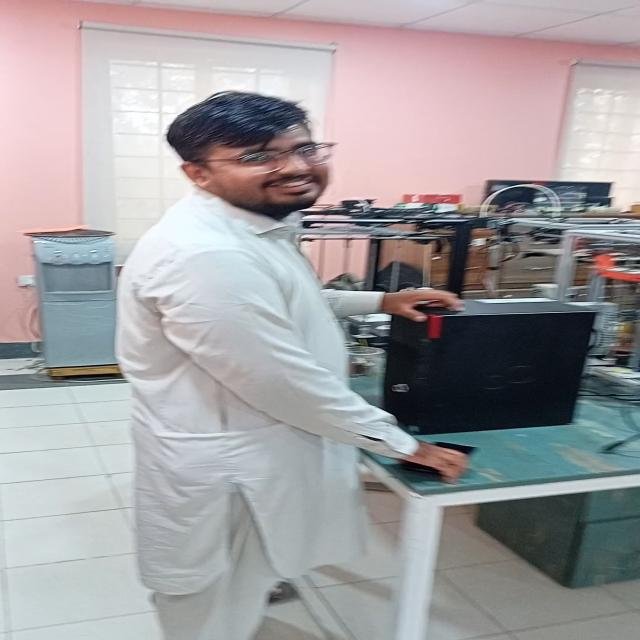dress: (117, 187, 418, 634)
glasses: (209, 143, 342, 170)
